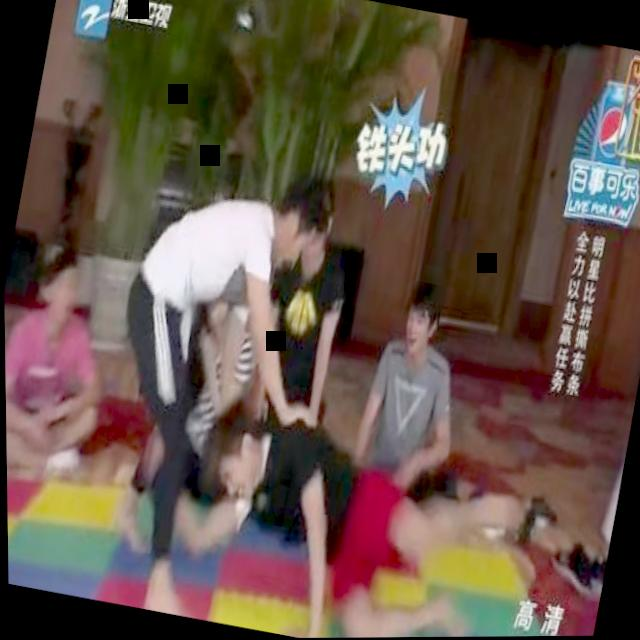Fall-Detected: (133, 360, 578, 639)
